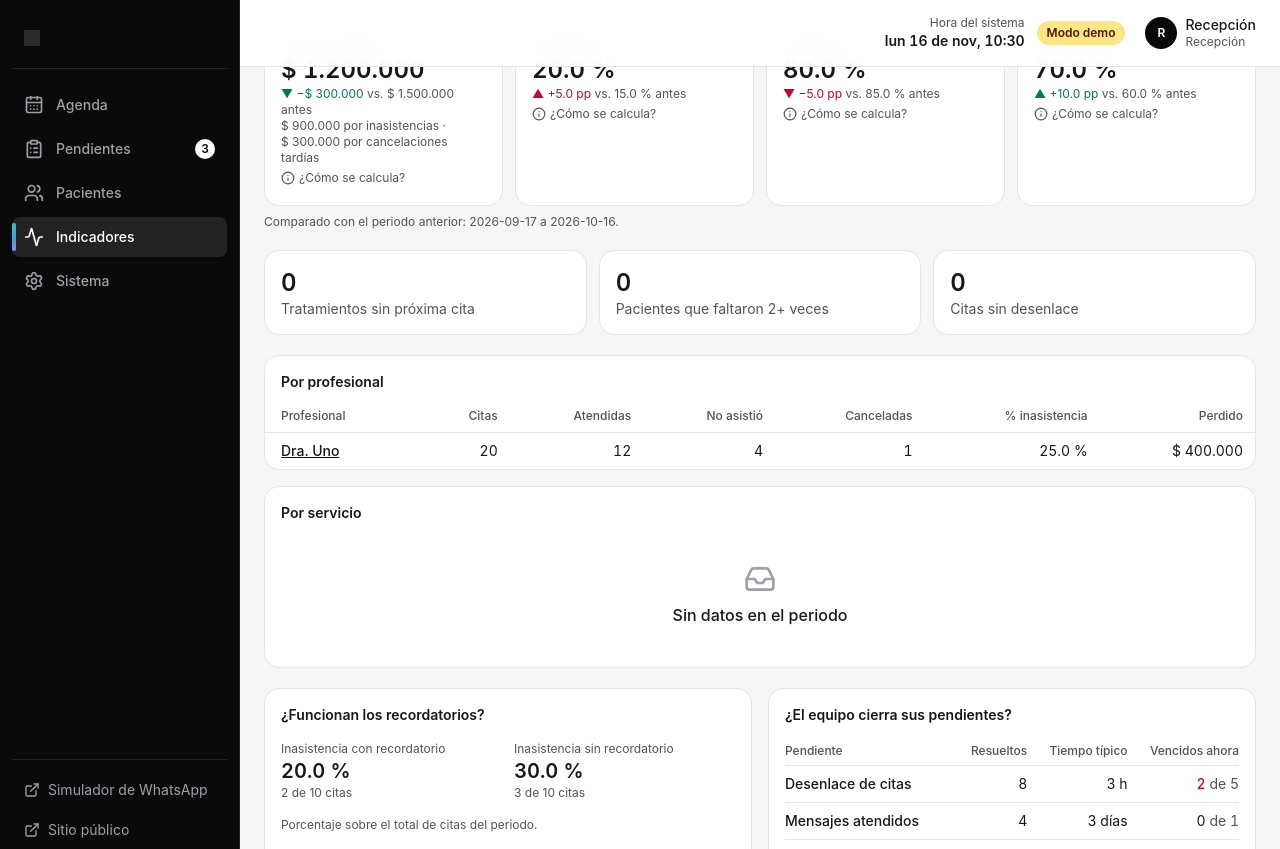
indicadores › una fila de la tabla abre las citas perdidas detrás de la cifra
(page scrolled)
Step 1. Click the button with aria-label "Ver citas perdidas de Dra. Uno" → (310, 451), box top-left (281, 441), bottom-right (340, 461)
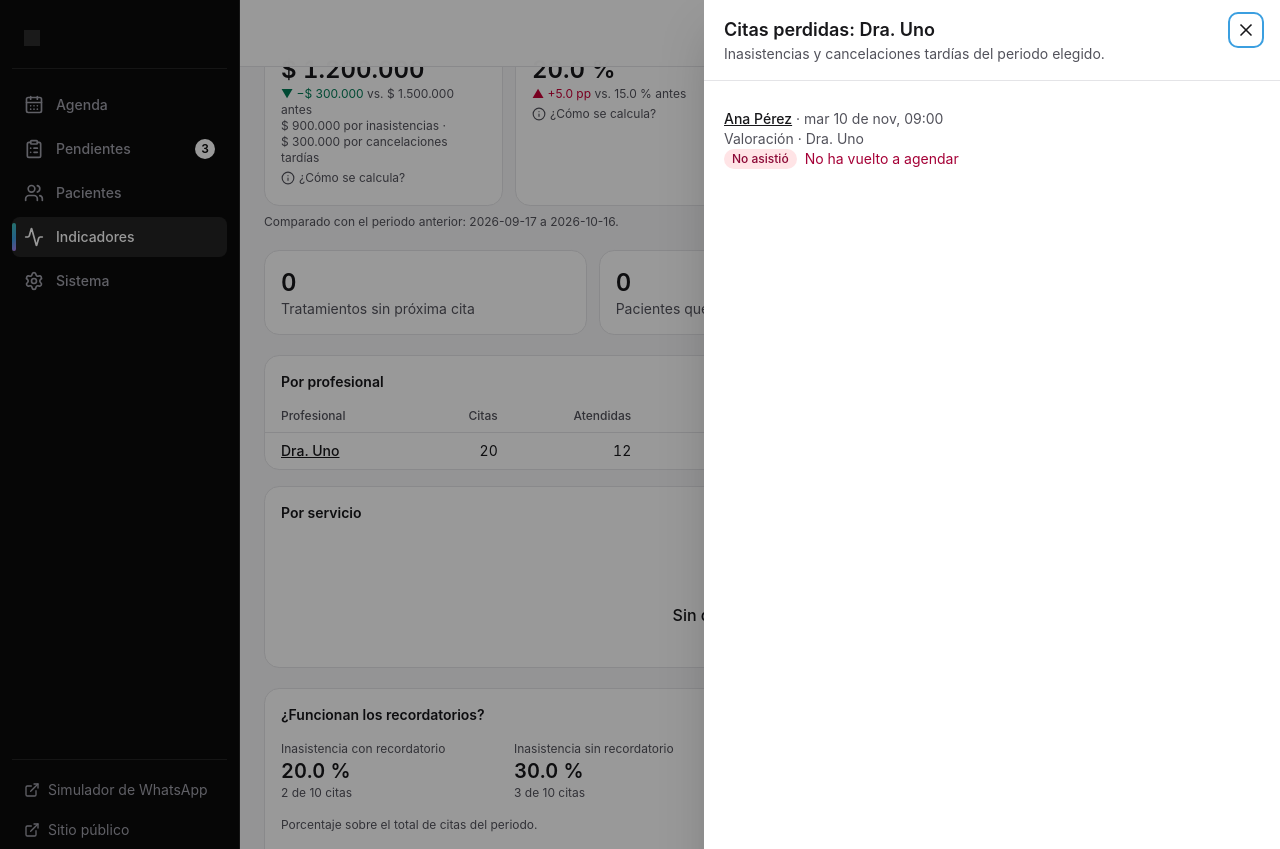
Expected: the text "No ha vuelto a agendar" is shown, top-left (805, 149), bottom-right (959, 169)
